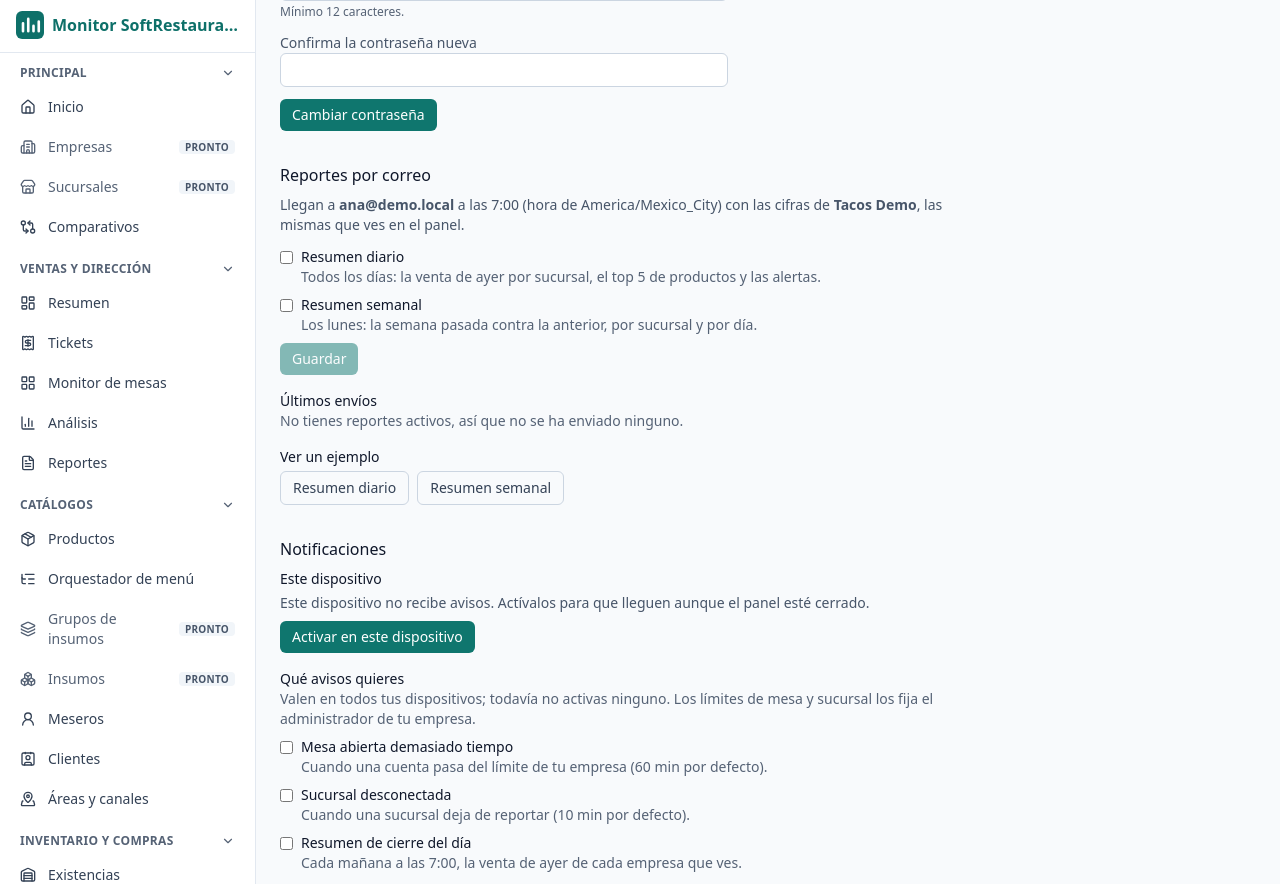
Test: Mi cuenta → Notificaciones: este dispositivo › activar: pide permiso, suscribe y registra; queda "activas" con prueba y desactivar
(page scrolled)
Click the button "Activar en este dispositivo".
click(377, 637)  # box [280, 621, 475, 653]
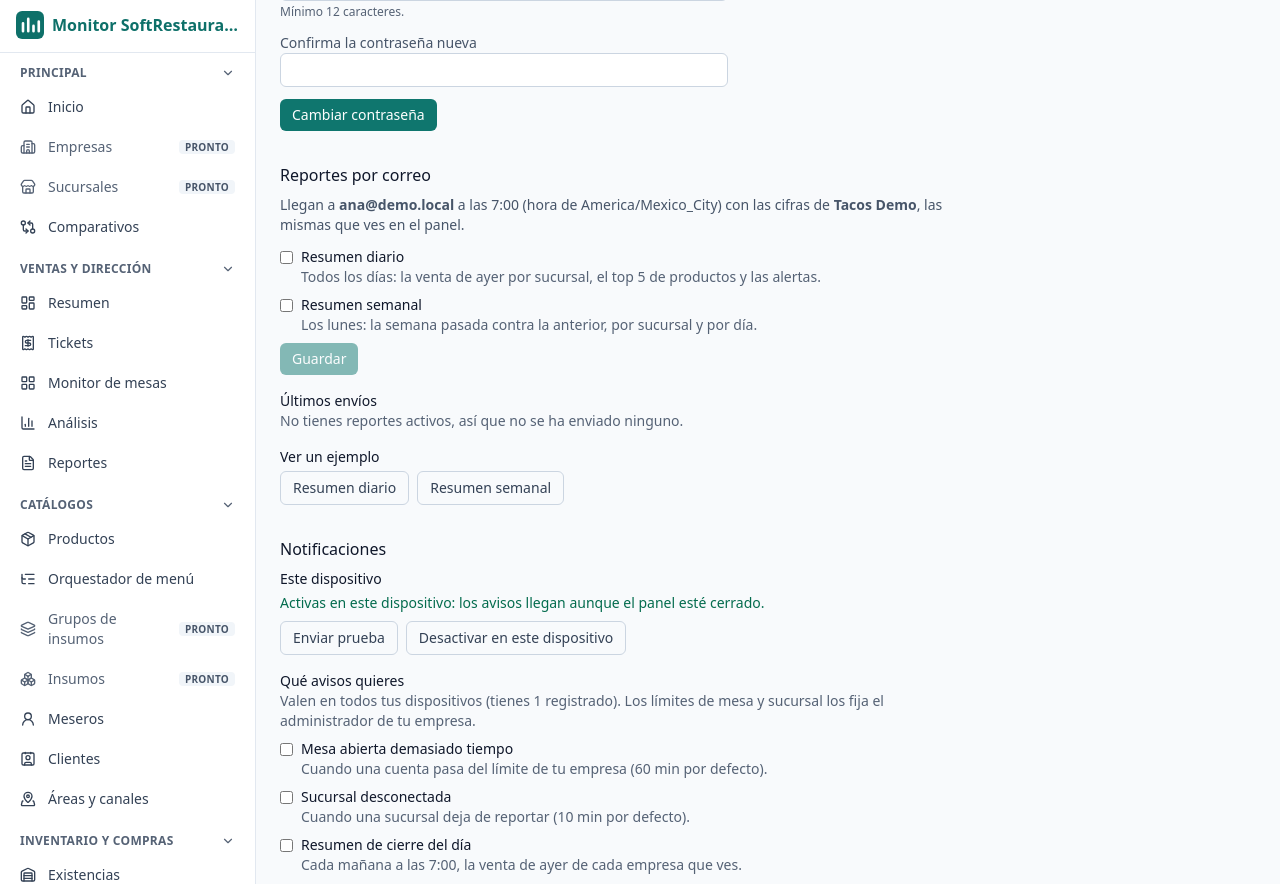
expect the text "Activas en este dispositivo" is shown: met, box [280, 593, 764, 612]
expect the text "tienes 1 registrado" is shown: met, box [482, 691, 621, 710]
Click the button "Enviar prueba".
click(339, 638)  # box [280, 621, 398, 655]
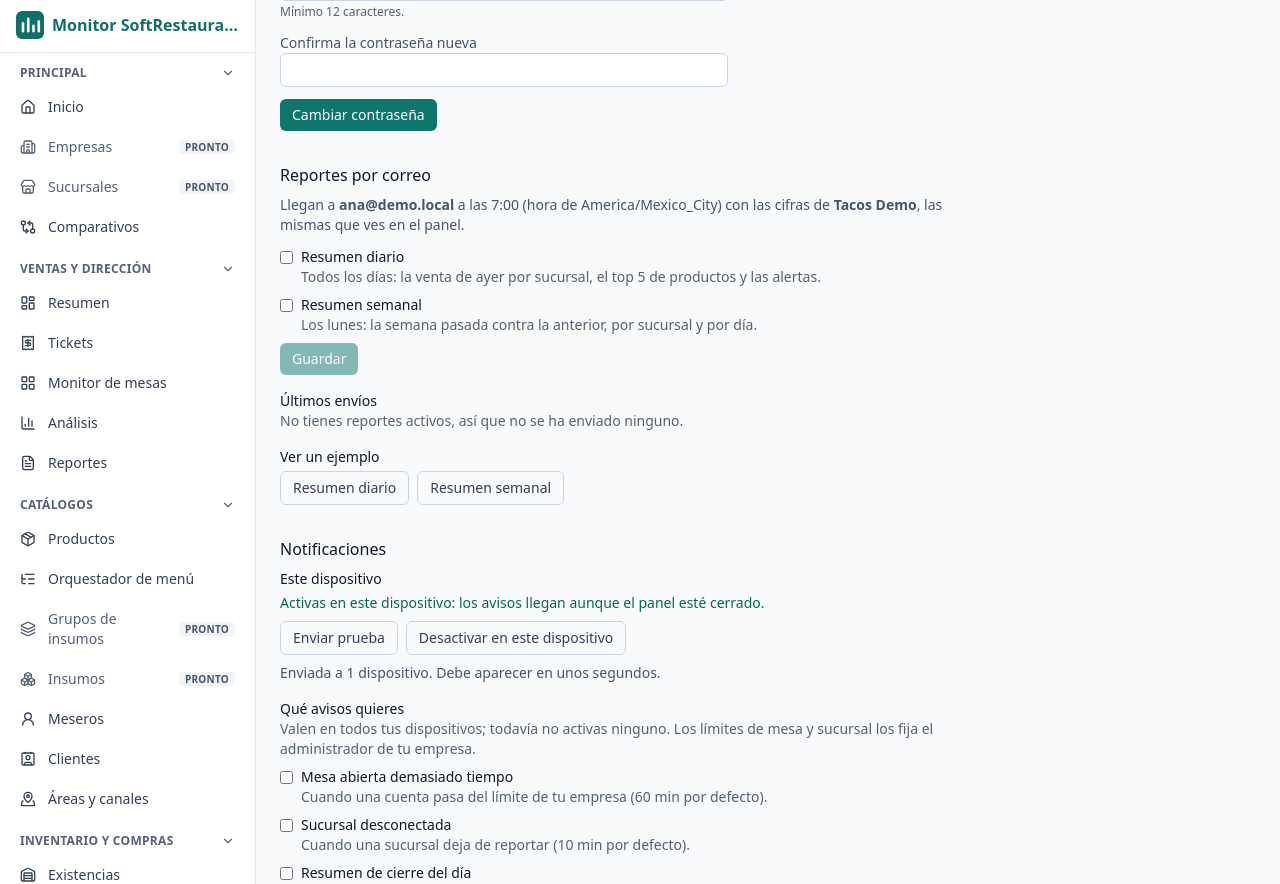
expect the text "Enviada a 1 dispositivo. Debe aparecer en unos segundos." is shown: met, box [280, 663, 661, 682]
